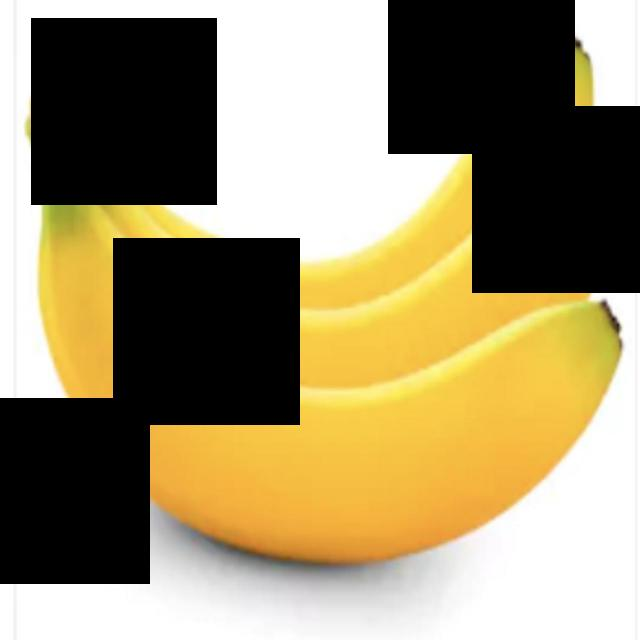banana: (38, 98, 638, 574)
